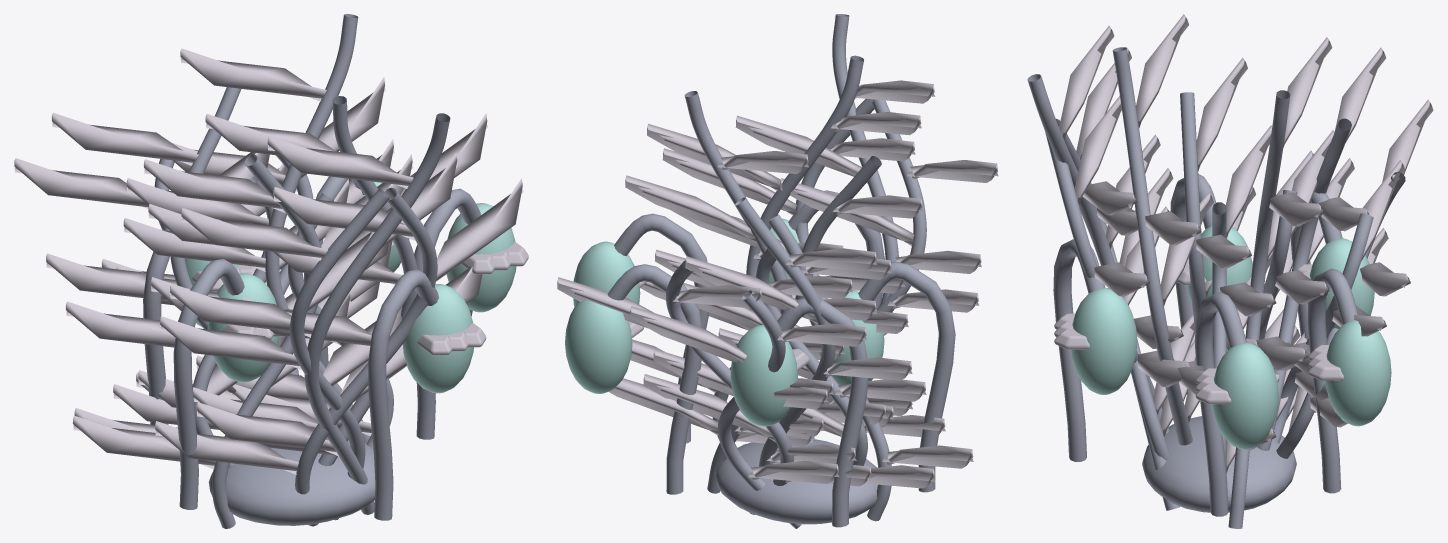
Rendered from bio_aquatic_frond_23_near.glb.
3 views of the same model, side by side, from view 1: azimuth 30°, elevation 25°; view 2: azimuth 150°, elevation 25°; view 3: azimuth 270°, elevation 25° (orthographic). The views are drawn at different scales.
Parts seen in each view (by area): view 1: Ruffled aquatic blade.010, Ruffled aquatic blade.050, Ruffled aquatic blade.040, Ruffled aquatic blade.035, Holdfast, Ruffled aquatic blade.020, Ruffled aquatic blade.025, Ruffled aquatic blade.005, Ruffled aquatic blade.045, Flexible stipe.002, Arched fruit stem.002, Arched fruit stem.004 (+19 smaller); view 2: Ruffled aquatic blade.030, Ruffled aquatic blade.005, Holdfast, Ruffled aquatic blade.040, Ruffled aquatic blade.010, Ruffled aquatic blade.015, Ruffled aquatic blade.045, Pendant spore capsule.003, Ruffled aquatic blade.050, Ruffled aquatic blade.020, Ruffled aquatic blade.035, Ruffled aquatic blade.025 (+20 smaller); view 3: Holdfast, Flexible stipe.005, Ruffled aquatic blade.010, Pendant spore capsule, Pendant spore capsule.002, Ruffled aquatic blade.025, Pendant spore capsule.003, Ruffled aquatic blade.040, Ruffled aquatic blade.035, Flexible stipe.008, Arched fruit stem, Ruffled aquatic blade.050 (+24 smaller).
Part boxes in pixels (x1,y1,x2,y2): Ruffled aquatic blade.010: (170,136,457,456); Ruffled aquatic blade.050: (155,178,523,474); Ruffled aquatic blade.040: (123,48,393,401); Ruffled aquatic blade.035: (160,208,406,456); Holdfast: (208,440,375,525); Ruffled aquatic blade.020: (72,154,413,469); Ruffled aquatic blade.025: (193,113,487,427); Ruffled aquatic blade.005: (46,112,295,407); Ruffled aquatic blade.045: (65,178,349,432); Flexible stipe.002: (304,113,450,514); Arched fruit stem.002: (368,269,438,520); Arched fruit stem.004: (173,259,244,509); Ruffled aquatic blade.030: (608,306,866,483); Ruffled aquatic blade.005: (653,248,912,463); Holdfast: (715,439,877,524); Ruffled aquatic blade.040: (625,151,876,437); Ruffled aquatic blade.010: (735,80,981,415); Ruffled aquatic blade.015: (557,277,871,486); Ruffled aquatic blade.045: (653,276,935,488); Pendant spore capsule.003: (565,299,632,393); Ruffled aquatic blade.050: (662,138,945,436); Ruffled aquatic blade.020: (671,195,973,468); Ruffled aquatic blade.035: (780,160,998,426); Ruffled aquatic blade.025: (640,112,921,424); Holdfast: (1142,416,1296,512); Flexible stipe.005: (1112,47,1192,445); Ruffled aquatic blade.010: (1059,25,1195,414); Pendant spore capsule: (1212,342,1278,449); Pendant spore capsule.002: (1071,287,1137,394); Ruffled aquatic blade.025: (1136,14,1213,422); Pendant spore capsule.003: (1325,320,1391,426); Ruffled aquatic blade.040: (1256,37,1332,382); Ruffled aquatic blade.035: (1076,47,1195,436); Flexible stipe.008: (1228,90,1290,528); Arched fruit stem: (1195,292,1246,516); Ruffled aquatic blade.050: (1074,95,1195,408).
Bounding box in the file's own units: 1.89 × 1.89 × 1.57.
